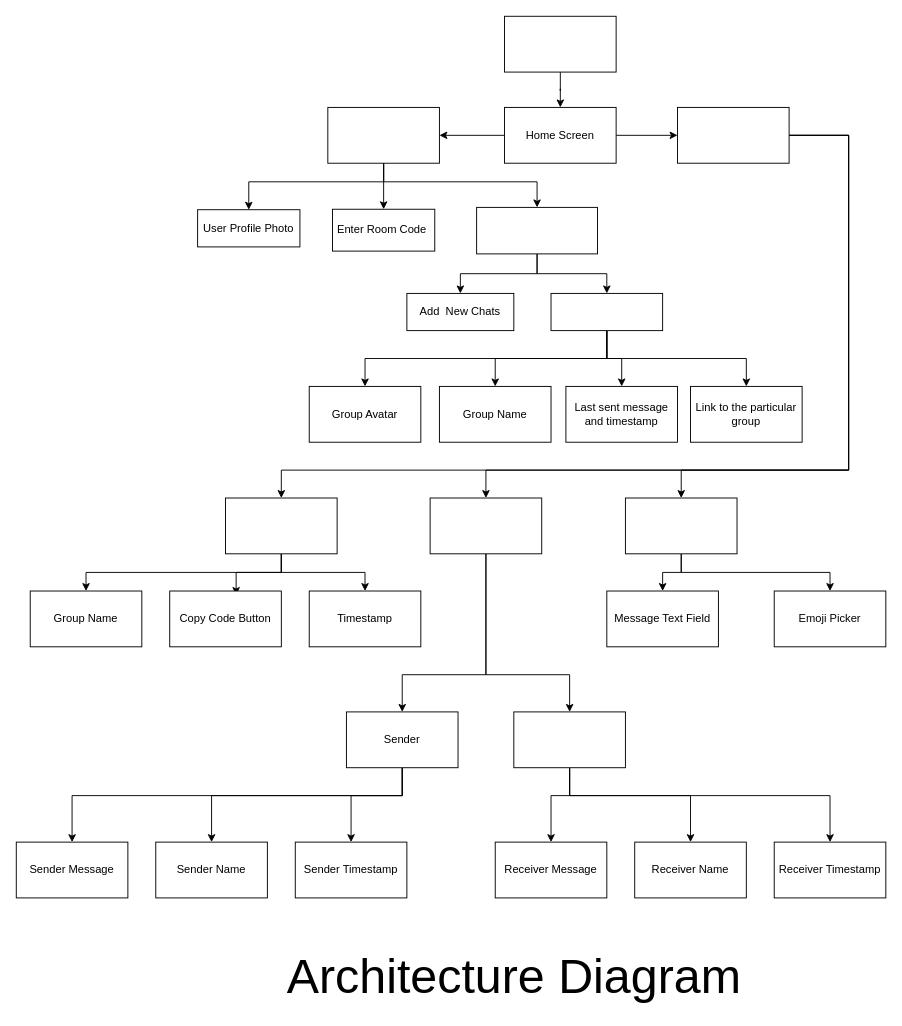
Image size: 902x1026. Some labels were removed from this diagram. The box of each missing label's shape, as (x1, y1, x2, y2) in pixels:
Chat Body: (429, 497, 542, 554)
Chat Footer: (624, 497, 737, 554)
Chat Header: (225, 497, 337, 554)
Chats: (677, 106, 789, 163)
Login: (504, 15, 616, 72)
Receiver: (513, 711, 625, 768)
Sidebar: (327, 106, 439, 163)
Sidebar Chat: (550, 292, 663, 331)
Sidebar Chat List: (476, 206, 598, 254)
